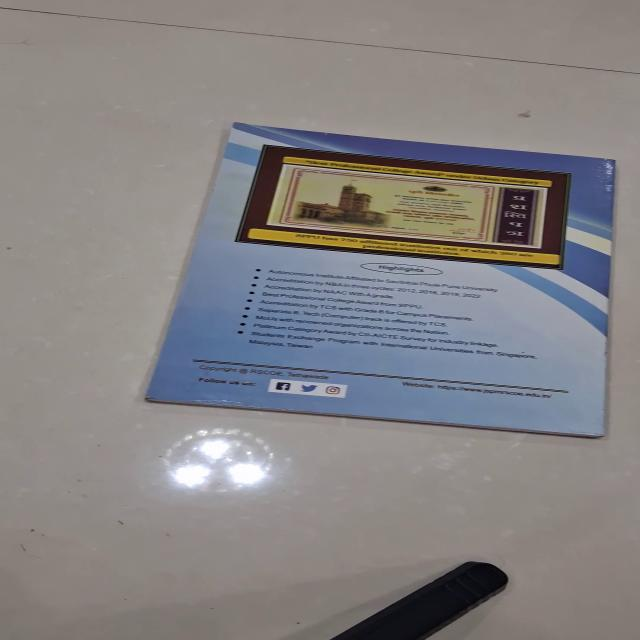paper: (143, 121, 616, 438)
